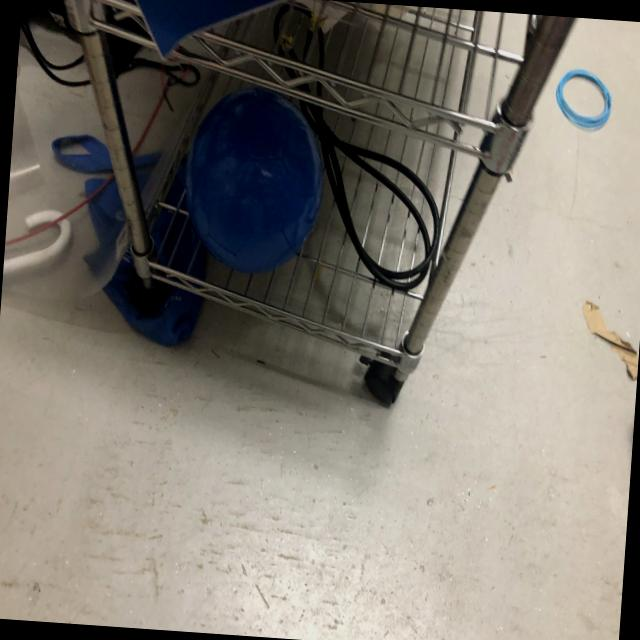blue_ball: (174, 84, 334, 282)
